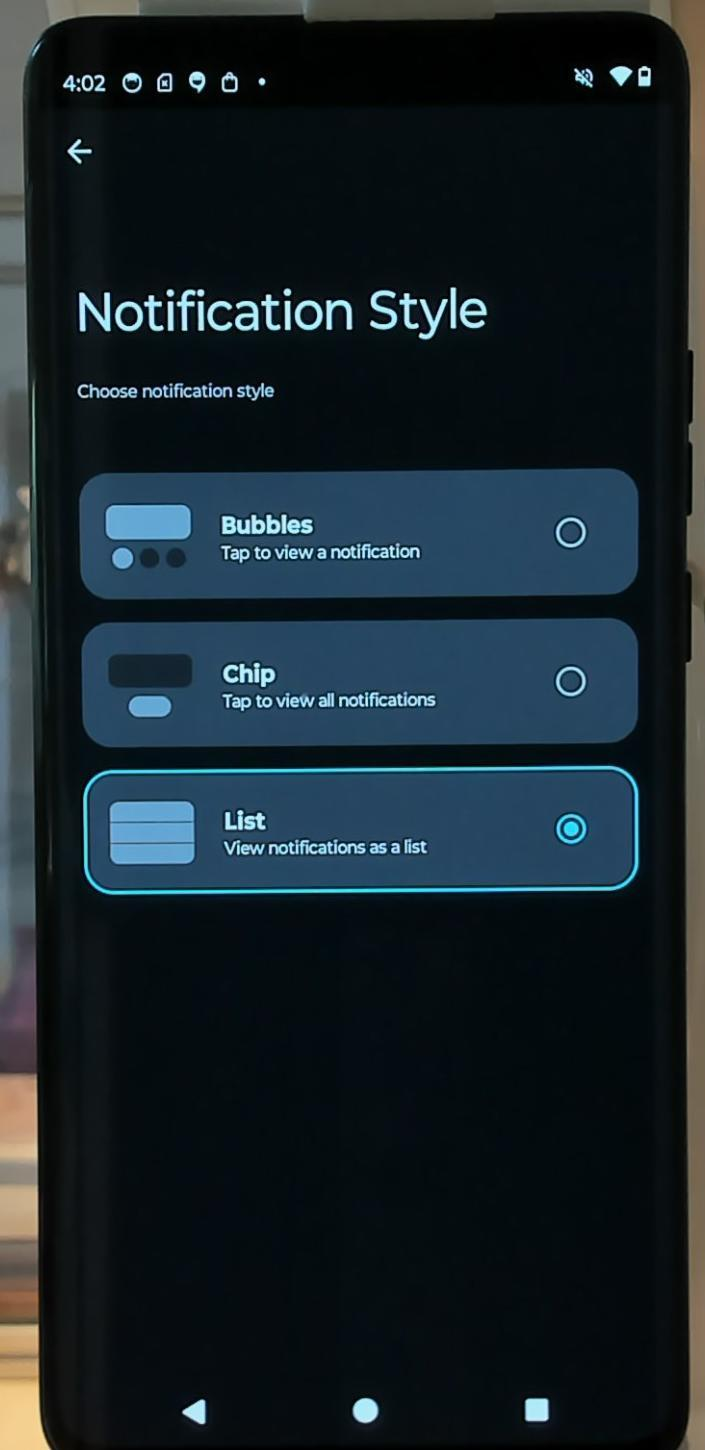RadioButton: (98, 630, 594, 732), (98, 778, 597, 879), (95, 485, 588, 568)
